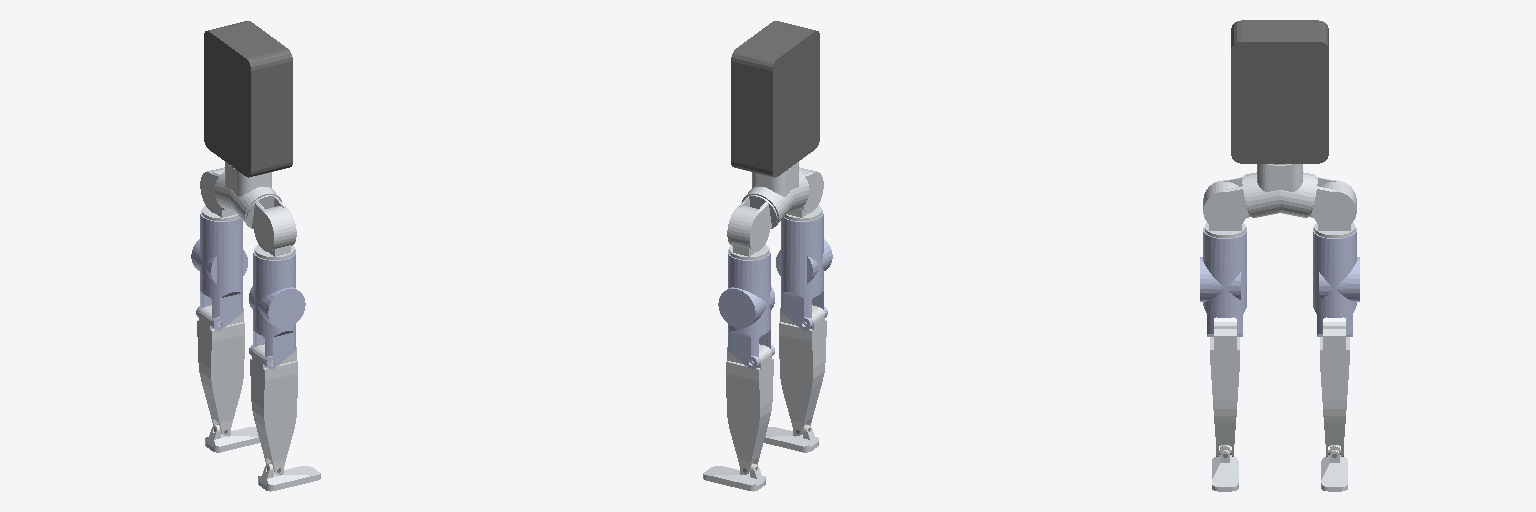
The robot description file, URDF, robot "A1_alpha_biped_concept_urdf":
<?xml version='1.0' encoding='utf-8'?>
<robot name="A1_alpha_biped_concept_urdf">
  <link name="Base_link">
    <inertial>
      <origin xyz="3.46728960589162E-07 2.67258032900247E-07 -0.109045267898649" rpy="0 0 0" />
      <mass value="6.16154154498917" />
      <inertia ixx="0.0149591362005424" ixy="2.00943522767814E-07" ixz="2.69528460007859E-08" iyy="0.0130209795310268" iyz="1.57018371725409E-08" izz="0.0116195508871225" />
    </inertial>
    <visual>
      <origin xyz="0 0 0" rpy="0 0 0" />
      <geometry>
        <mesh filename="../meshes/Base_link.STL" />
      </geometry>
      <material name="">
        <color rgba="0.898039215686275 0.917647058823529 0.929411764705882 1" />
      </material>
    </visual>
    <collision>
      <origin xyz="0 0 0" rpy="0 0 0" />
      <geometry>
        <mesh filename="../meshes/Base_link.STL" />
      </geometry>
    </collision>
  </link>
  <link name="Hip_FE_R">
    <inertial>
      <origin xyz="0.00132215087710046 -0.00844428381651104 0.0514383742557954" rpy="0 0 0" />
      <mass value="1.1828006369853" />
      <inertia ixx="0.00295376764901796" ixy="4.24751867822398E-11" ixz="1.72009200265484E-11" iyy="0.00296665052058258" iyz="0.000227323584823247" izz="0.00240795950462739" />
    </inertial>
    <visual>
      <origin xyz="0 0 0" rpy="0 0 0" />
      <geometry>
        <mesh filename="../meshes/Hip_FE_R.STL" />
      </geometry>
      <material name="">
        <color rgba="0.898039215686275 0.917647058823529 0.929411764705882 1" />
      </material>
    </visual>
    <collision>
      <origin xyz="0 0 0" rpy="0 0 0" />
      <geometry>
        <mesh filename="../meshes/Hip_FE_R.STL" />
      </geometry>
    </collision>
  </link>
  <joint name="Hip_FE_R_DOF" type="revolute">
    <origin xyz="0 -0.0949999999999997 -0.135000000000001" rpy="1.78896248329418 0 0" />
    <parent link="Base_link" />
    <child link="Hip_FE_R" />
    <axis xyz="0 0 -1" />
    <limit lower="-3.1416" upper="3.1416" effort="360" velocity="13.195" />
  </joint>
  <link name="Hip_AA_R">
    <inertial>
      <origin xyz="-0.0193488887854351 -5.0471264378682E-06 -0.0299595110626561" rpy="0 0 0" />
      <mass value="2.1271338482045" />
      <inertia ixx="0.00299417226798126" ixy="-2.4228326166518E-07" ixz="-2.09071585272983E-08" iyy="0.0032973876228989" iyz="-1.35143212952141E-07" izz="0.00484796142894257" />
    </inertial>
    <visual>
      <origin xyz="0 0 0" rpy="0 0 0" />
      <geometry>
        <mesh filename="../meshes/Hip_AA_R.STL" />
      </geometry>
      <material name="">
        <color rgba="0.898039215686275 0.917647058823529 0.929411764705882 1" />
      </material>
    </visual>
    <collision>
      <origin xyz="0 0 0" rpy="0 0 0" />
      <geometry>
        <mesh filename="../meshes/Hip_AA_R.STL" />
      </geometry>
    </collision>
  </link>
  <joint name="Hip_AA_R_DOF" type="revolute">
    <origin xyz="0.03 -0.0141381072379305 0.0748339089165384" rpy="1.5707963267949 0.218166156499285 1.5707963267949" />
    <parent link="Hip_FE_R" />
    <child link="Hip_AA_R" />
    <axis xyz="0 0 1" />
    <limit lower="-2.7925" upper="0.34907" effort="150" velocity="14.661" />
  </joint>
  <link name="Hip_Rot_R">
    <inertial>
      <origin xyz="0.000461365708485911 -0.00798401878595231 0.132704304541552" rpy="0 0 0" />
      <mass value="5.6932625410586" />
      <inertia ixx="0.0262050897789326" ixy="1.49162375418888E-06" ixz="-0.000511620103269689" iyy="0.0304013053008017" iyz="-6.05127530246273E-06" izz="0.0107507505667321" />
    </inertial>
    <visual>
      <origin xyz="0 0 0" rpy="0 0 0" />
      <geometry>
        <mesh filename="../meshes/Hip_Rot_R.STL" />
      </geometry>
      <material name="">
        <color rgba="0.792156862745098 0.819607843137255 0.933333333333333 1" />
      </material>
    </visual>
    <collision>
      <origin xyz="0 0 0" rpy="0 0 0" />
      <geometry>
        <mesh filename="../meshes/Hip_Rot_R.STL" />
      </geometry>
    </collision>
  </link>
  <joint name="Hip_Rot_R_DOF" type="revolute">
    <origin xyz="-0.0800000000000002 0 -0.03" rpy="3.14159263868863 1.5707963267949 0" />
    <parent link="Hip_AA_R" />
    <child link="Hip_Rot_R" />
    <axis xyz="0 0 1" />
    <limit lower="-3.1416" upper="3.1416" effort="150" velocity="14.661" />
  </joint>
  <link name="Knee_FE_R">
    <inertial>
      <origin xyz="0.039816371637946 0.142265153128917 -0.00270685245673613" rpy="0 0 0" />
      <mass value="3.90298458248523" />
      <inertia ixx="0.0289751698782031" ixy="0.000122798572773677" ixz="1.25336911412077E-05" iyy="0.00525604295321008" iyz="-1.35468581197616E-05" izz="0.0328086508296491" />
    </inertial>
    <visual>
      <origin xyz="0 0 0" rpy="0 0 0" />
      <geometry>
        <mesh filename="../meshes/Knee_FE_R.STL" />
      </geometry>
      <material name="">
        <color rgba="0.898039215686275 0.917647058823529 0.929411764705882 1" />
      </material>
    </visual>
    <collision>
      <origin xyz="0 0 0" rpy="0 0 0" />
      <geometry>
        <mesh filename="../meshes/Knee_FE_R.STL" />
      </geometry>
    </collision>
  </link>
  <joint name="Knee_FE_R_DOF" type="revolute">
    <origin xyz="0.0399999999999999 0 0.35" rpy="1.5707963267949 0 3.14159265358979" />
    <parent link="Hip_Rot_R" />
    <child link="Knee_FE_R" />
    <axis xyz="0 0 1" />
    <limit lower="0" upper="2.4435" effort="360" velocity="13.195" />
  </joint>
  <link name="Ankle_FE_R">
    <inertial>
      <origin xyz="1.1289E-08 1.1102E-16 1.3659E-08" rpy="0 0 0" />
      <mass value="0.12799" />
      <inertia ixx="2.1793E-05" ixy="-3.8184E-11" ixz="1.9753E-17" iyy="3.5201E-05" iyz="3.4713E-11" izz="1.7108E-05" />
    </inertial>
    <visual>
      <origin xyz="0 0 0" rpy="0 0 0" />
      <geometry>
        <mesh filename="../meshes/Ankle_FE_R.STL" />
      </geometry>
      <material name="">
        <color rgba="0.65098 0.61961 0.58824 1" />
      </material>
    </visual>
    <collision>
      <origin xyz="0 0 0" rpy="0 0 0" />
      <geometry>
        <mesh filename="../meshes/Ankle_FE_R.STL" />
      </geometry>
    </collision>
  </link>
  <joint name="Ankle_FE_R_DOF" type="revolute">
    <origin xyz="0.0400000000000001 0.39 0" rpy="0 0 0" />
    <parent link="Knee_FE_R" />
    <child link="Ankle_FE_R" />
    <axis xyz="0 0 1" />
    <limit lower="-1.5708" upper="1.5708" effort="90" velocity="16.441" />
  </joint>
  <link name="Ankle_Roll_R">
    <inertial>
      <origin xyz="-0.040551 -2.731E-08 0.042029" rpy="0 0 0" />
      <mass value="0.83206" />
      <inertia ixx="0.0030389" ixy="7.2635E-10" ixz="0.00023292" iyy="0.0027352" iyz="-7.0349E-09" izz="0.00060005" />
    </inertial>
    <visual>
      <origin xyz="0 0 0" rpy="0 0 0" />
      <geometry>
        <mesh filename="../meshes/Ankle_Roll_R.STL" />
      </geometry>
      <material name="">
        <color rgba="0.89804 0.91765 0.92941 1" />
      </material>
    </visual>
    <collision>
      <origin xyz="0 0 0" rpy="0 0 0" />
      <geometry>
        <mesh filename="../meshes/Ankle_Roll_R.STL" />
      </geometry>
    </collision>
  </link>
  <joint name="Ankle_Roll_R_DOF" type="revolute">
    <origin xyz="0 0 0" rpy="-1.5707963267949 0 -1.5707963267949" />
    <parent link="Ankle_FE_R" />
    <child link="Ankle_Roll_R" />
    <axis xyz="0 0 1" />
    <limit lower="-0.7854" upper="0.7854" effort="90" velocity="16.441" />
  </joint>
  <link name="Hip_FE_L">
    <inertial>
      <origin xyz="0.00132215177799703 0.00844428381651198 0.0514383742557952" rpy="0 0 0" />
      <mass value="1.1828006369853" />
      <inertia ixx="0.00295376764901796" ixy="4.2475187855062E-11" ixz="-1.72009192181127E-11" iyy="0.00296665052058258" iyz="-0.000227323584823246" izz="0.00240795950462739" />
    </inertial>
    <visual>
      <origin xyz="0 0 0" rpy="0 0 0" />
      <geometry>
        <mesh filename="../meshes/Hip_FE_L.STL" />
      </geometry>
      <material name="">
        <color rgba="0.898039215686275 0.917647058823529 0.929411764705882 1" />
      </material>
    </visual>
    <collision>
      <origin xyz="0 0 0" rpy="0 0 0" />
      <geometry>
        <mesh filename="../meshes/Hip_FE_L.STL" />
      </geometry>
    </collision>
  </link>
  <joint name="Hip_FE_L_DOF" type="revolute">
    <origin xyz="0 0.0950000000000001 -0.135" rpy="-1.78896248329418 0 0" />
    <parent link="Base_link" />
    <child link="Hip_FE_L" />
    <axis xyz="0 0 -1" />
    <limit lower="-3.1416" upper="3.1416" effort="360" velocity="13.195" />
  </joint>
  <link name="Hip_AA_L">
    <inertial>
      <origin xyz="-0.0193423410150878 -1.50064390955218E-06 -0.029959511062656" rpy="0 0 0" />
      <mass value="2.1271338482045" />
      <inertia ixx="0.00297416002472068" ixy="2.42283261664243E-07" ixz="1.35143212963884E-07" iyy="0.00331739986615949" iyz="-2.09071585259676E-08" izz="0.00484796142894257" />
    </inertial>
    <visual>
      <origin xyz="0 0 0" rpy="0 0 0" />
      <geometry>
        <mesh filename="../meshes/Hip_AA_L.STL" />
      </geometry>
      <material name="">
        <color rgba="0.898039215686275 0.917647058823529 0.929411764705882 1" />
      </material>
    </visual>
    <collision>
      <origin xyz="0 0 0" rpy="0 0 0" />
      <geometry>
        <mesh filename="../meshes/Hip_AA_L.STL" />
      </geometry>
    </collision>
  </link>
  <joint name="Hip_AA_L_DOF" type="revolute">
    <origin xyz="0.0300000000000001 0.0141381072379312 0.0748339089165383" rpy="-1.5707963267949 0.218166156499285 -1.57079632679489" />
    <parent link="Hip_FE_L" />
    <child link="Hip_AA_L" />
    <axis xyz="0 0 -1" />
    <limit lower="-2.7925" upper="0.34907" effort="150" velocity="14.661" />
  </joint>
  <link name="Hip_Rot_L">
    <inertial>
      <origin xyz="0.000464188637437619 0.00798365366179038 0.132702795433171" rpy="0 0 0" />
      <mass value="5.69305628120625" />
      <inertia ixx="0.0262047707576834" ixy="-2.02827285419155E-06" ixz="-0.000511979063876991" iyy="0.0304007813415183" iyz="5.8899950853173E-06" izz="0.0107504711348813" />
    </inertial>
    <visual>
      <origin xyz="0 0 0" rpy="0 0 0" />
      <geometry>
        <mesh filename="../meshes/Hip_Rot_L.STL" />
      </geometry>
      <material name="">
        <color rgba="0.792156862745098 0.819607843137255 0.933333333333333 1" />
      </material>
    </visual>
    <collision>
      <origin xyz="0 0 0" rpy="0 0 0" />
      <geometry>
        <mesh filename="../meshes/Hip_Rot_L.STL" />
      </geometry>
    </collision>
  </link>
  <joint name="Hip_Rot_L_DOF" type="revolute">
    <origin xyz="-0.0800000000000002 0 -0.0299999999999995" rpy="3.14159265358979 1.5707963267949 0" />
    <parent link="Hip_AA_L" />
    <child link="Hip_Rot_L" />
    <axis xyz="0 0 1" />
    <limit lower="-3.1416" upper="3.1416" effort="150" velocity="14.661" />
  </joint>
  <link name="Knee_FE_L">
    <inertial>
      <origin xyz="0.0398163511790115 0.142265118132011 0.00270685212346858" rpy="0 0 0" />
      <mass value="3.90298517511772" />
      <inertia ixx="0.0289751725713778" ixy="0.000122802891205121" ixz="-1.25350353292297E-05" iyy="0.00525604025000319" iyz="1.35465189589164E-05" izz="0.032808650834456" />
    </inertial>
    <visual>
      <origin xyz="0 0 0" rpy="0 0 0" />
      <geometry>
        <mesh filename="../meshes/Knee_FE_L.STL" />
      </geometry>
      <material name="">
        <color rgba="0.898039215686275 0.917647058823529 0.929411764705882 1" />
      </material>
    </visual>
    <collision>
      <origin xyz="0 0 0" rpy="0 0 0" />
      <geometry>
        <mesh filename="../meshes/Knee_FE_L.STL" />
      </geometry>
    </collision>
  </link>
  <joint name="Knee_FE_L_DOF" type="revolute">
    <origin xyz="0.0400000000000004 0 0.35" rpy="1.5707963267949 0 3.14159265358979" />
    <parent link="Hip_Rot_L" />
    <child link="Knee_FE_L" />
    <axis xyz="0 0 1" />
    <limit lower="0" upper="2.4435" effort="360" velocity="13.195" />
  </joint>
  <link name="Ankle_FE_L">
    <inertial>
      <origin xyz="1.1289E-08 0 1.3659E-08" rpy="0 0 0" />
      <mass value="0.12799" />
      <inertia ixx="2.1793E-05" ixy="-3.8184E-11" ixz="1.9717E-17" iyy="3.5201E-05" iyz="3.4713E-11" izz="1.7108E-05" />
    </inertial>
    <visual>
      <origin xyz="0 0 0" rpy="0 0 0" />
      <geometry>
        <mesh filename="../meshes/Ankle_FE_L.STL" />
      </geometry>
      <material name="">
        <color rgba="0.65098 0.61961 0.58824 1" />
      </material>
    </visual>
    <collision>
      <origin xyz="0 0 0" rpy="0 0 0" />
      <geometry>
        <mesh filename="../meshes/Ankle_FE_L.STL" />
      </geometry>
    </collision>
  </link>
  <joint name="Ankle_FE_L_DOF" type="revolute">
    <origin xyz="0.0400000000000002 0.39 0" rpy="0 0 0" />
    <parent link="Knee_FE_L" />
    <child link="Ankle_FE_L" />
    <axis xyz="0 0 1" />
    <limit lower="-1.5708" upper="1.5708" effort="90" velocity="16.441" />
  </joint>
  <link name="Ankle_Roll_L">
    <inertial>
      <origin xyz="-0.040551 -2.731E-08 0.042029" rpy="0 0 0" />
      <mass value="0.83206" />
      <inertia ixx="0.0030389" ixy="7.2635E-10" ixz="0.00023292" iyy="0.0027352" iyz="-7.0349E-09" izz="0.00060005" />
    </inertial>
    <visual>
      <origin xyz="0 0 0" rpy="0 0 0" />
      <geometry>
        <mesh filename="../meshes/Ankle_Roll_L.STL" />
      </geometry>
      <material name="">
        <color rgba="0.89804 0.91765 0.92941 1" />
      </material>
    </visual>
    <collision>
      <origin xyz="0 0 0" rpy="0 0 0" />
      <geometry>
        <mesh filename="../meshes/Ankle_Roll_L.STL" />
      </geometry>
    </collision>
  </link>
  <joint name="Ankle_Roll_L_DOF" type="revolute">
    <origin xyz="0 0 0" rpy="-1.5707963267949 0 -1.5707963267949" />
    <parent link="Ankle_FE_L" />
    <child link="Ankle_Roll_L" />
    <axis xyz="0 0 1" />
    <limit lower="-0.7854" upper="0.7854" effort="90" velocity="16.441" />
  </joint>
  <link name="Torso_Yaw">
    <inertial>
      <origin xyz="-2.6172E-17 -4.0409E-18 0.21164" rpy="0 0 0" />
      <mass value="56.81" />
      <inertia ixx="1.1802" ixy="-1.8403E-17" ixz="-1.8245E-17" iyy="0.88266" iyz="-1.8564E-16" izz="0.50962" />
    </inertial>
    <visual>
      <origin xyz="0 0 0" rpy="0 0 0" />
      <geometry>
        <mesh filename="../meshes/Torso_Yaw.STL" />
      </geometry>
      <material name="">
        <color rgba="0.50196 0.50196 0.50196 1" />
      </material>
    </visual>
    <collision>
      <origin xyz="0 0 0" rpy="0 0 0" />
      <geometry>
        <mesh filename="../meshes/Torso_Yaw.STL" />
      </geometry>
    </collision>
  </link>
  <joint name="Torso_Yaw_DOF" type="revolute">
    <origin xyz="0 0 0" rpy="0 0 0" />
    <parent link="Base_link" />
    <child link="Torso_Yaw" />
    <axis xyz="0 0 -1" />
    <limit lower="-3.1416" upper="3.1416" effort="90" velocity="16.441" />
  </joint>
  <!-- Alias for left foot -->
  <link name="left_foot">
    <inertial>
      <origin xyz="0 0 0" rpy="0 0 0" />
      <mass value="1e-9" />
      <inertia ixx="0" ixy="0" ixz="0" iyy="0" iyz="0" izz="0" />
    </inertial>
  </link>
  <joint name="left_foot_frame" type="fixed">
    <parent link="Ankle_Roll_L"/>
    <child link="left_foot"/>
    <origin xyz="-0.06 0 0.05" rpy="0 -1.57079 -3.14159"/>
  </joint>
  <!-- Alias for right foot -->
  <link name="right_foot">
    <inertial>
      <origin xyz="0 0 0" rpy="0 0 0" />
      <mass value="1e-9" />
      <inertia ixx="0" ixy="0" ixz="0" iyy="0" iyz="0" izz="0" />
    </inertial>
  </link>
  <joint name="right_foot_frame" type="fixed">
    <parent link="Ankle_Roll_R"/>
    <child link="right_foot"/>
    <origin xyz="-0.06 0 0.05" rpy="0 -1.57079 -3.14159"/>
  </joint>
  <!-- Alias for trunk -->
  <link name="trunk">
    <inertial>
      <origin xyz="0 0 0" rpy="0 0 0" />
      <mass value="1e-9" />
      <inertia ixx="0" ixy="0" ixz="0" iyy="0" iyz="0" izz="0" />
    </inertial>
  </link>
  <joint name="trunk_frame" type="fixed">
    <parent link="Base_link"/>
    <child link="trunk"/>
    <origin xyz="0.075 0 0.01" rpy="0 0 0"/>
  </joint>
</robot>

--- What the picture shows (computed from the rendered views, not written in the file) ---
Views: 3 orthographic renders of the robot side by side, from view 1: azimuth 30°, elevation 25°; view 2: azimuth 150°, elevation 25°; view 3: azimuth 270°, elevation 25°.
Model A1_alpha_biped_concept_urdf with 17 links and 16 joints (13 revolute, 3 fixed), rooted at Base_link, posed all joints at 0.
Visible links, largest first — view 1: Torso_Yaw, Hip_Rot_R, Hip_Rot_L, Knee_FE_L, Knee_FE_R, Base_link, Hip_FE_R, Hip_AA_R, Ankle_Roll_R, Ankle_Roll_L, Hip_FE_L; view 2: Torso_Yaw, Hip_Rot_L, Hip_Rot_R, Knee_FE_R, Knee_FE_L, Base_link, Hip_FE_L, Hip_AA_L, Ankle_Roll_L, Ankle_Roll_R, Hip_FE_R; view 3: Torso_Yaw, Hip_Rot_R, Hip_Rot_L, Base_link, Knee_FE_R, Knee_FE_L, Hip_FE_R, Hip_FE_L, Ankle_Roll_R, Ankle_Roll_L, Hip_AA_R, Hip_AA_L.
Link boxes in pixels (bbox=[...]): Torso_Yaw: bbox=[204, 21, 292, 177]; Hip_Rot_R: bbox=[249, 249, 305, 369]; Hip_Rot_L: bbox=[191, 210, 247, 330]; Knee_FE_L: bbox=[197, 305, 244, 435]; Knee_FE_R: bbox=[250, 344, 297, 474]; Base_link: bbox=[214, 162, 281, 228]; Hip_FE_R: bbox=[246, 195, 296, 251]; Hip_AA_R: bbox=[255, 206, 294, 259]; Ankle_Roll_R: bbox=[258, 464, 320, 491]; Ankle_Roll_L: bbox=[205, 425, 259, 452]; Hip_FE_L: bbox=[200, 171, 222, 212]; Torso_Yaw: bbox=[731, 21, 819, 177]; Hip_Rot_L: bbox=[718, 249, 774, 369]; Hip_Rot_R: bbox=[776, 210, 832, 330]; Knee_FE_R: bbox=[779, 305, 826, 435]; Knee_FE_L: bbox=[726, 344, 773, 474]; Base_link: bbox=[742, 162, 809, 228]; Hip_FE_L: bbox=[727, 195, 777, 251]; Hip_AA_L: bbox=[729, 206, 768, 259]; Ankle_Roll_L: bbox=[703, 464, 765, 491]; Ankle_Roll_R: bbox=[764, 425, 818, 452]; Hip_FE_R: bbox=[801, 171, 823, 212]; Torso_Yaw: bbox=[1231, 20, 1328, 163]; Hip_Rot_R: bbox=[1200, 227, 1246, 336]; Hip_Rot_L: bbox=[1313, 227, 1359, 336]; Base_link: bbox=[1244, 164, 1315, 217]; Knee_FE_R: bbox=[1210, 322, 1239, 456]; Knee_FE_L: bbox=[1320, 322, 1349, 456]; Hip_FE_R: bbox=[1203, 177, 1251, 230]; Hip_FE_L: bbox=[1308, 177, 1356, 230]; Ankle_Roll_R: bbox=[1212, 445, 1238, 491]; Ankle_Roll_L: bbox=[1321, 445, 1347, 491]; Hip_AA_R: bbox=[1203, 182, 1245, 237]; Hip_AA_L: bbox=[1314, 182, 1356, 237].
Size in the robot's own frame: 0.225 by 0.48 by 1.46 metres.
14 mesh visuals loaded from 14 distinct referenced files (14 binary STL).